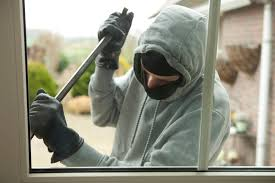crowbar: (29, 6, 136, 141)
